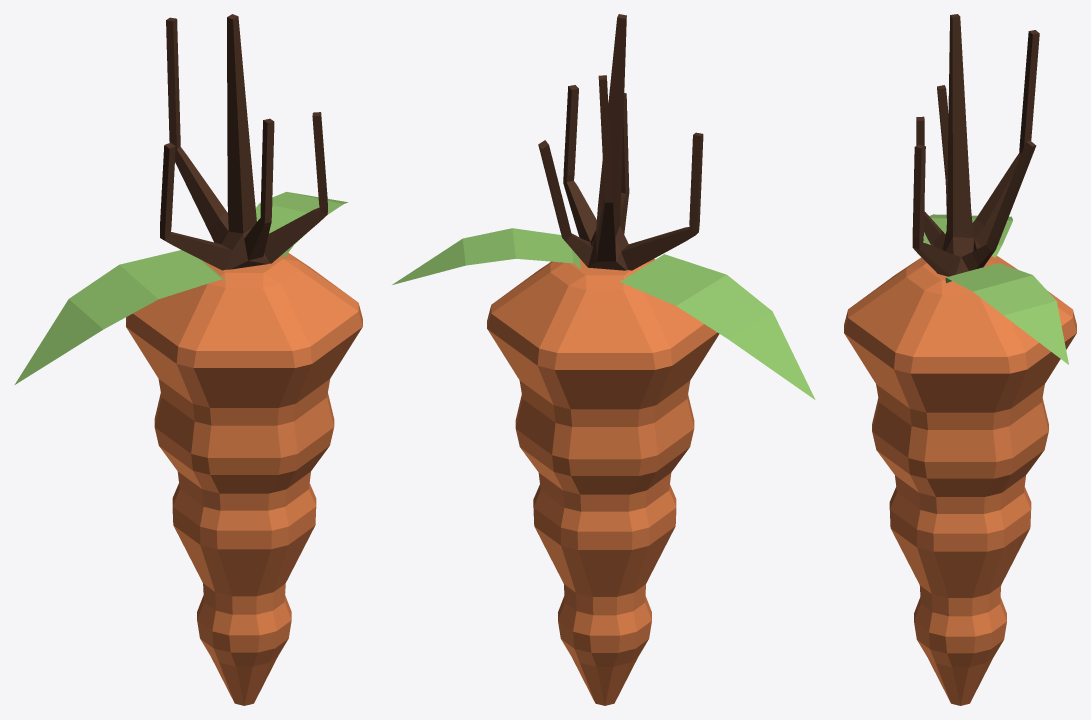
Rendered from Carrot.fbx.
The picture shows the model from 3 angles, left to right: view 1: azimuth 30°, elevation 25°; view 2: azimuth 150°, elevation 25°; view 3: azimuth 270°, elevation 25°; orthographic projection.
Visible parts, largest first — view 1: Carrot; view 2: Carrot; view 3: Carrot.
Boxes of the visible parts, x1,y1,x2,y2 form: Carrot: (14,14,362,705); Carrot: (392,14,815,705); Carrot: (844,14,1076,705).
Size of the model in its own units: 157 by 272 by 84.45.
